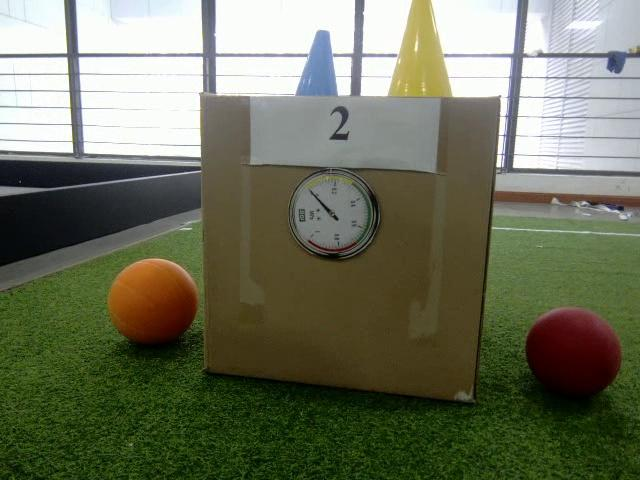2: (321, 104, 355, 144)
Dashboard: (287, 170, 381, 260)
blue_barrel: (291, 28, 342, 96)
orange_ball: (105, 257, 199, 347)
red_ball: (529, 307, 620, 396)
ssi: (296, 206, 309, 226)
yellow_barrel: (384, 1, 454, 98)
